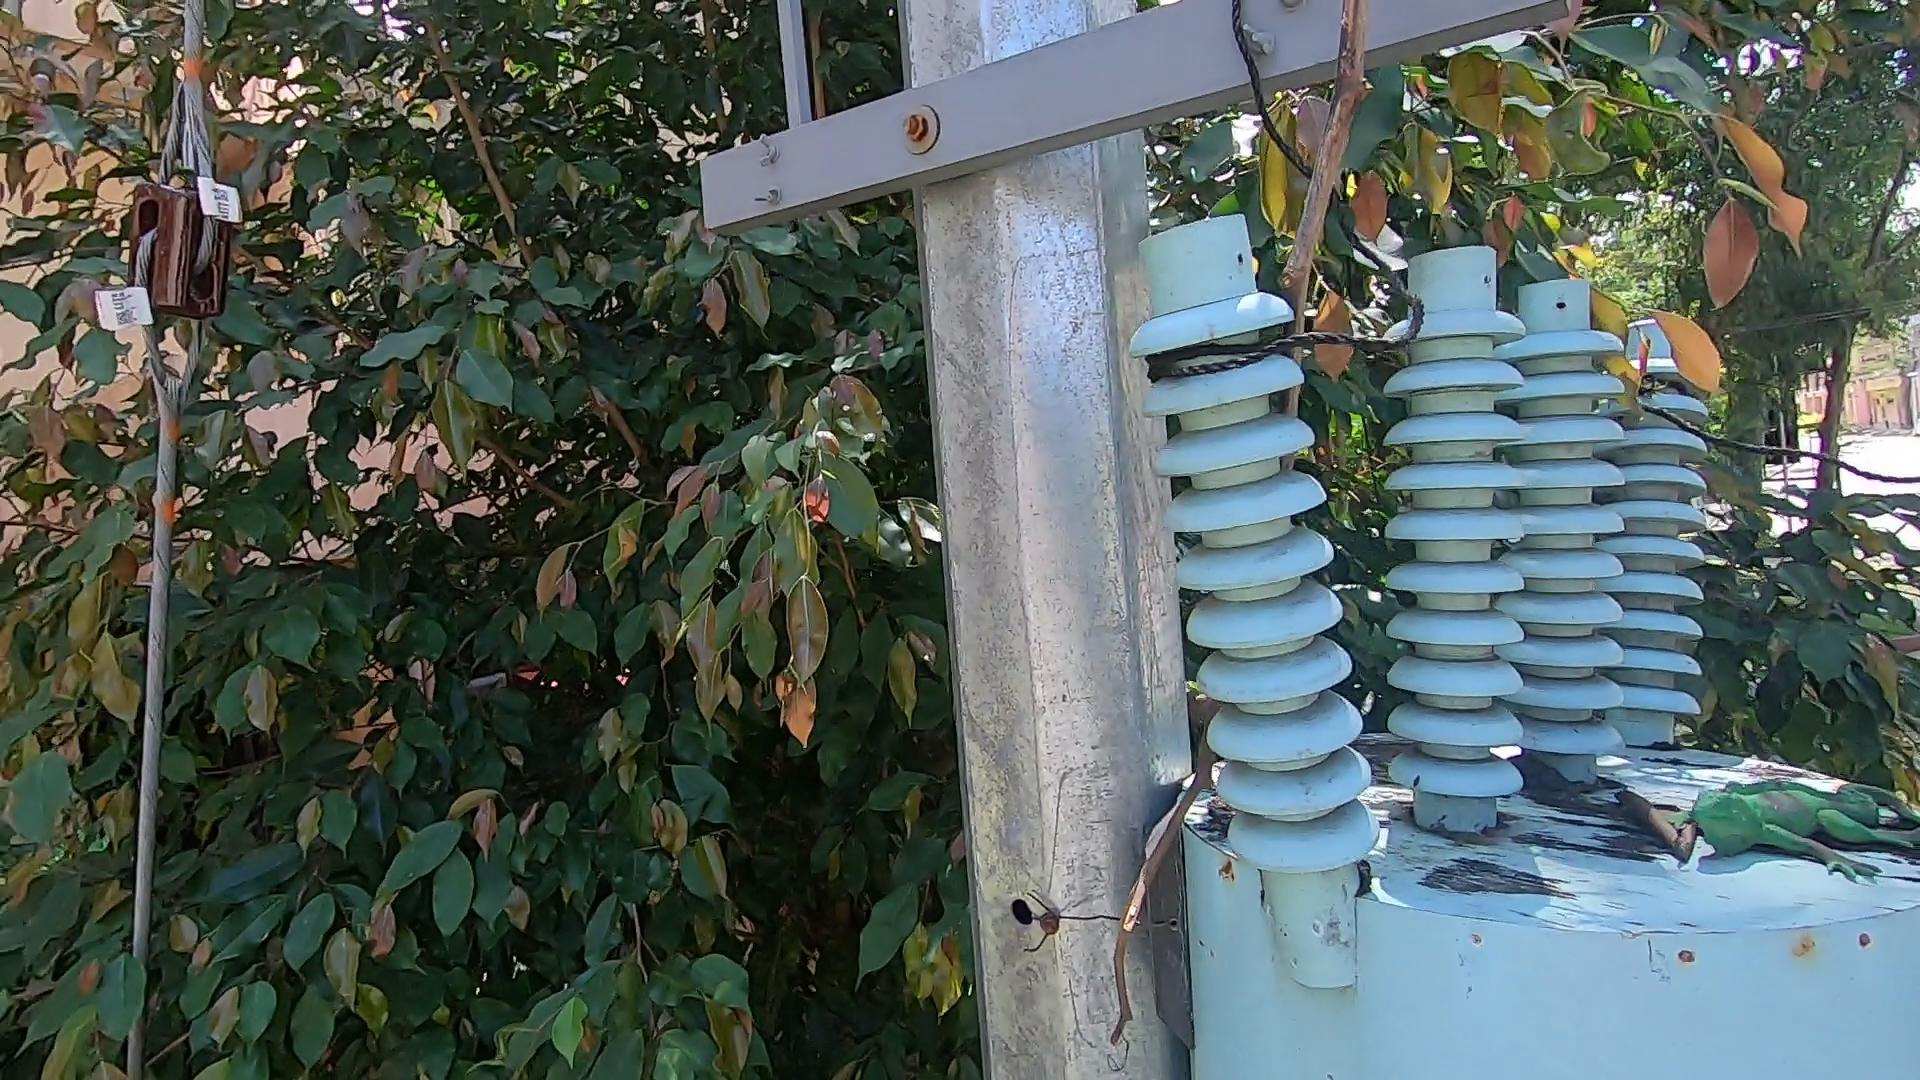branch with leaves: (1545, 247, 1741, 430)
leaf: (1606, 785, 1708, 872), (1501, 748, 1592, 807)
tree branch: (1042, 3, 1320, 1050)
